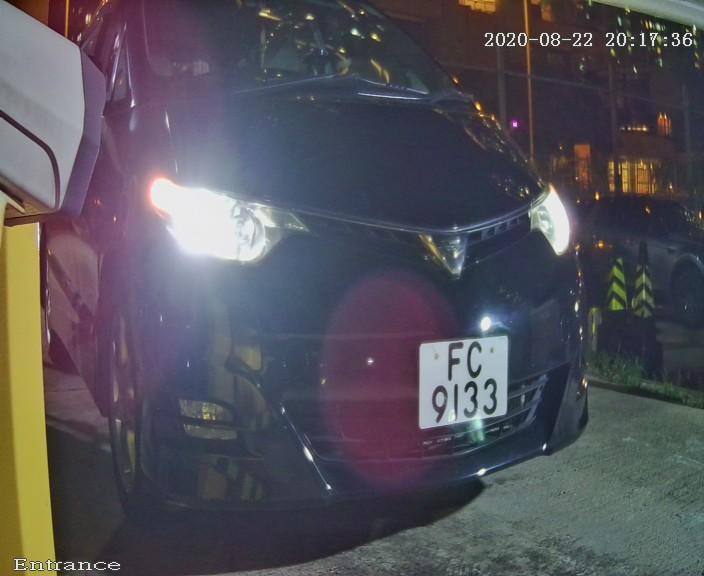Car: (29, 1, 629, 559)
License Plate: (409, 322, 519, 448)
